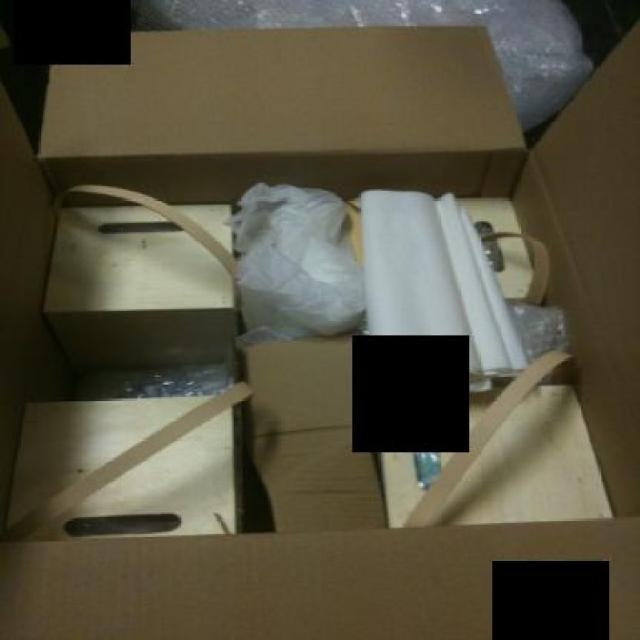plastic bag: (223, 183, 372, 337)
